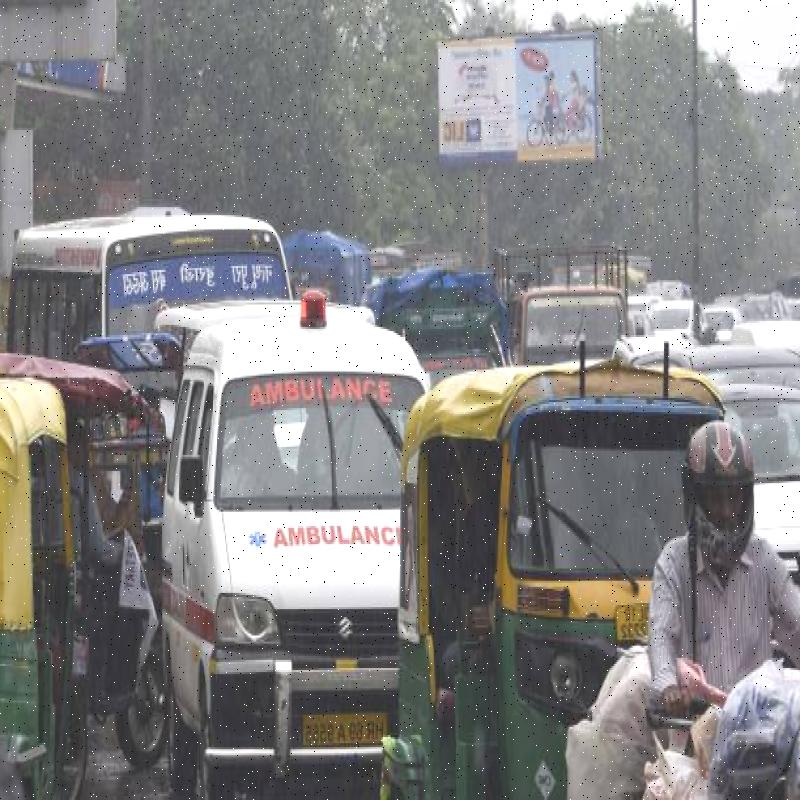ambulance: (168, 312, 420, 766)
